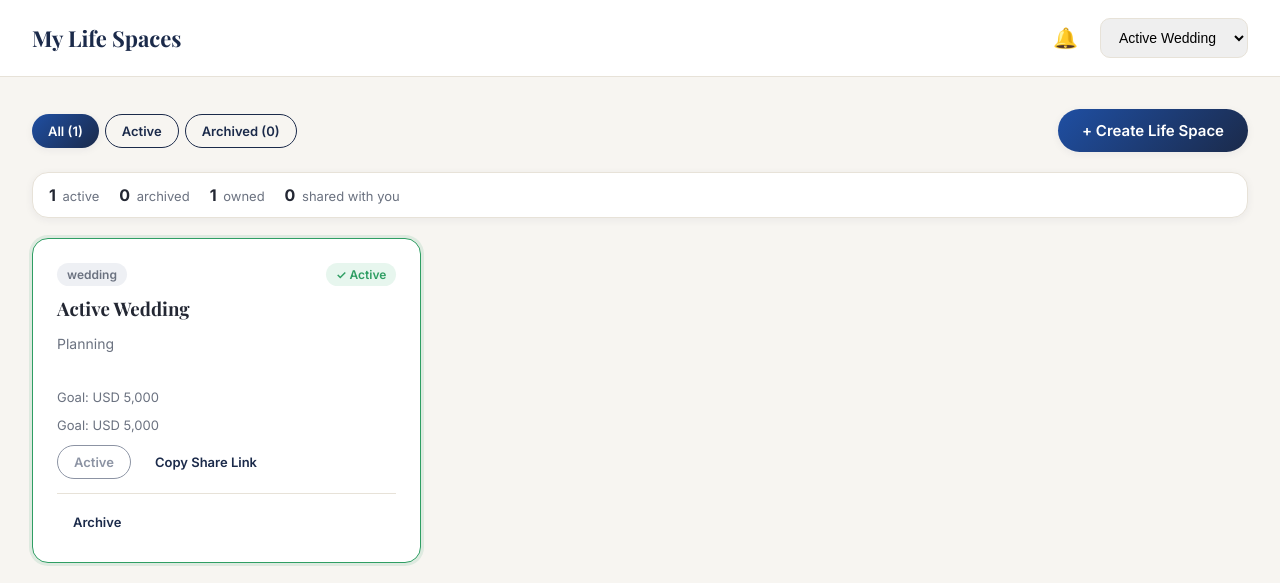
Scenario: Life Space lifecycle listing › shows a clear archived empty state
Expected: the heading "Active Wedding" is shown, [57,296,190,321]
Click the button "Archived (0)": point(241, 130) [185,114,297,148]
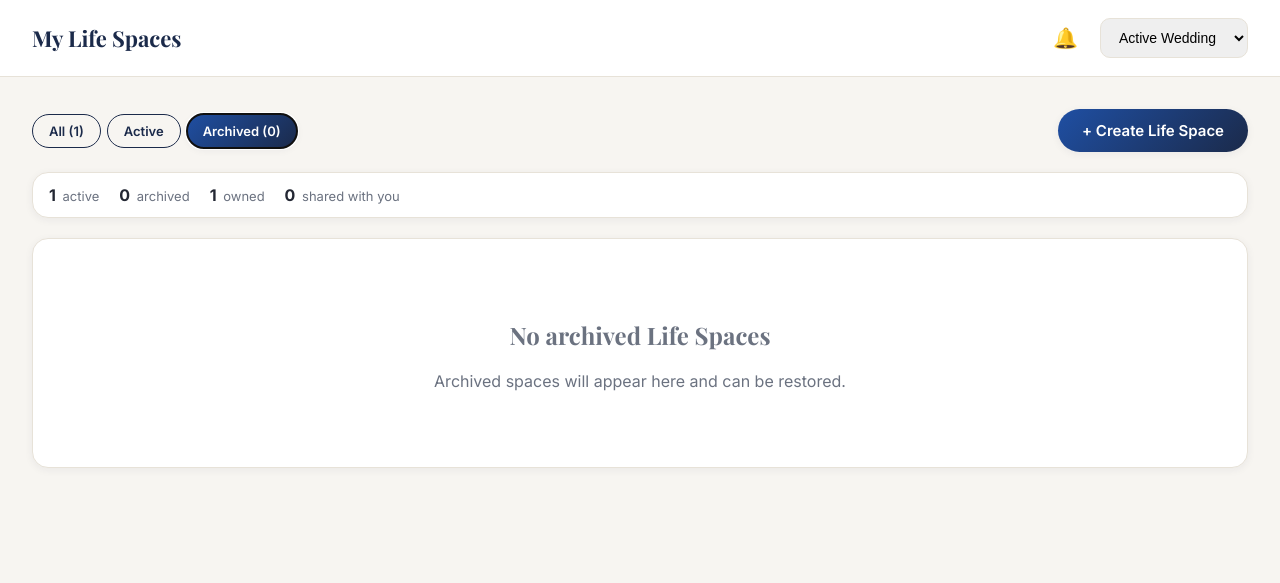
Result: the heading "No archived Life Spaces" is shown at [510,319,770,351]
Result: the text "Archived spaces will appear here and can be restored." is shown at [434,371,846,391]
